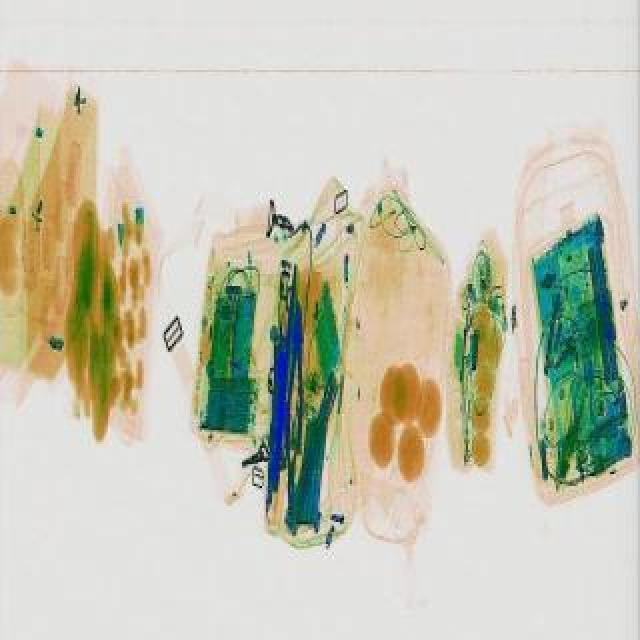wrench: (282, 298, 310, 450)
